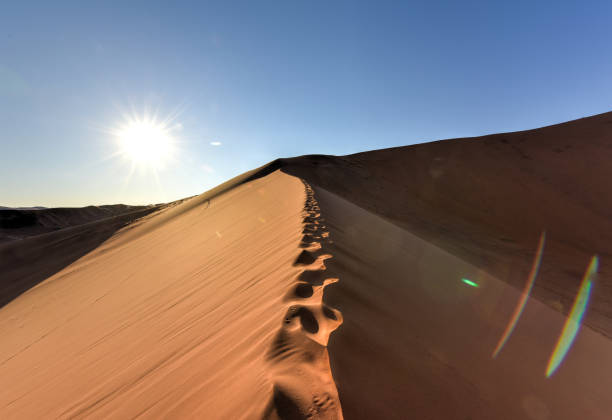human_foot_print: (282, 183, 338, 410)
